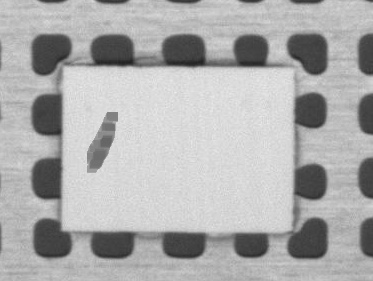DIE_INK: (85, 109, 119, 175)
